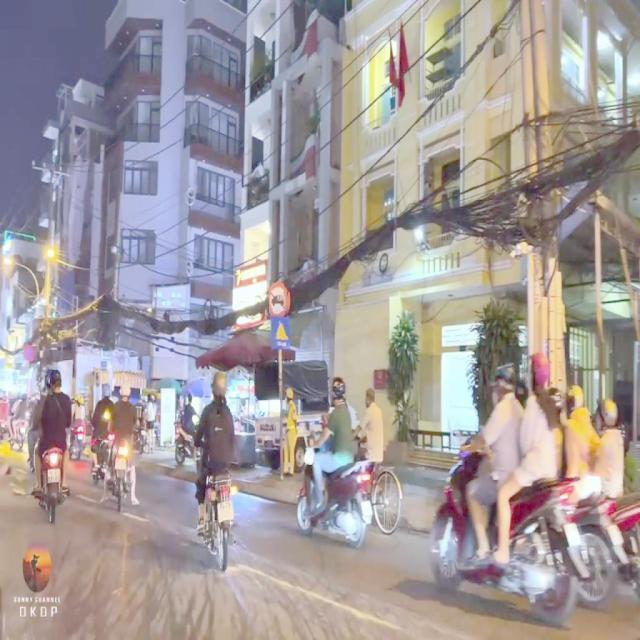106-cam-oto-tai: (268, 282, 288, 316)
442-cho: (272, 316, 290, 348)
